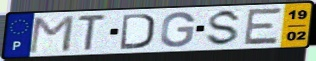D: (119, 12, 157, 51)
E: (241, 6, 285, 46)
G: (159, 11, 198, 49)
M: (26, 14, 77, 54)
S: (204, 8, 245, 48)
T: (76, 13, 108, 53)
